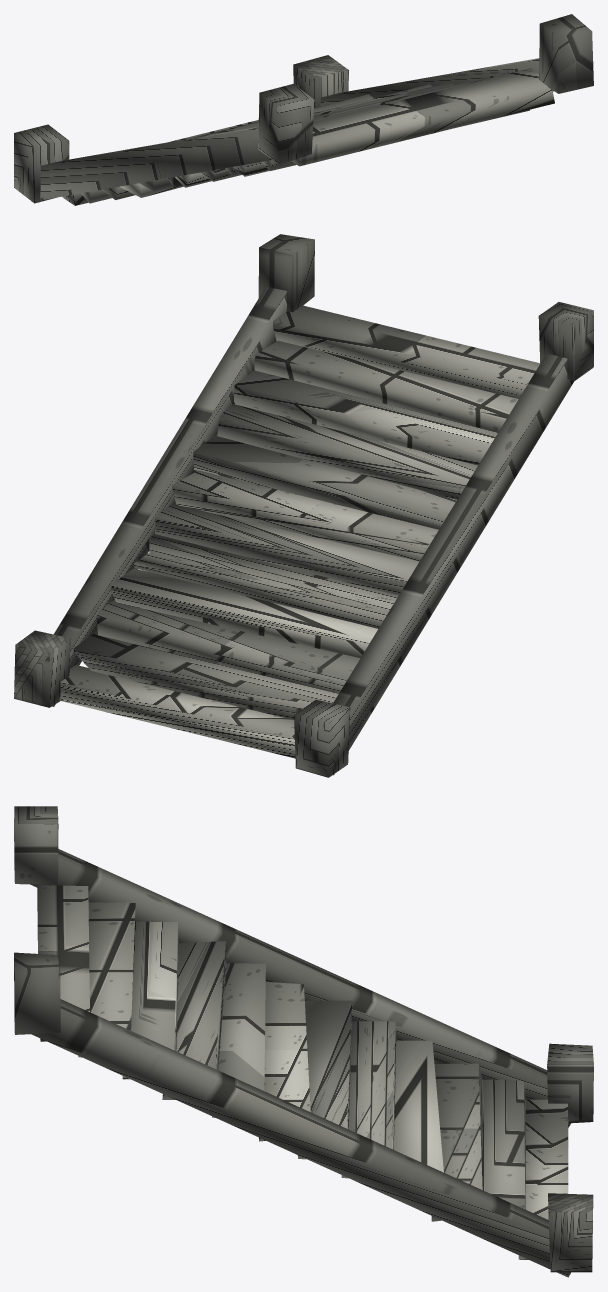
Rendered from stone_stairs.glb.
3 renders of one model, top to bottom at view 1: azimuth 30°, elevation 25°; view 2: azimuth 150°, elevation 25°; view 3: azimuth 270°, elevation 25°, orthographic. The views are drawn at different scales.
Parts seen in each view (by area): view 1: geometry_2, geometry_1, geometry_0; view 2: geometry_1, geometry_2, geometry_0; view 3: geometry_2, geometry_1, geometry_0.
Part boxes in pixels (x1,y1,x2,y2): geometry_2: (14,14,593,203); geometry_1: (81,68,554,203); geometry_0: (61,76,493,205); geometry_1: (73,305,540,719); geometry_2: (14,234,593,777); geometry_0: (60,370,497,758); geometry_2: (14,806,593,1277); geometry_1: (37,885,525,1221); geometry_0: (122,921,568,1259).
Size of the model in its own units: 3.67 by 3.14 by 5.32.
Materials: 3 (3 with a texture image).
